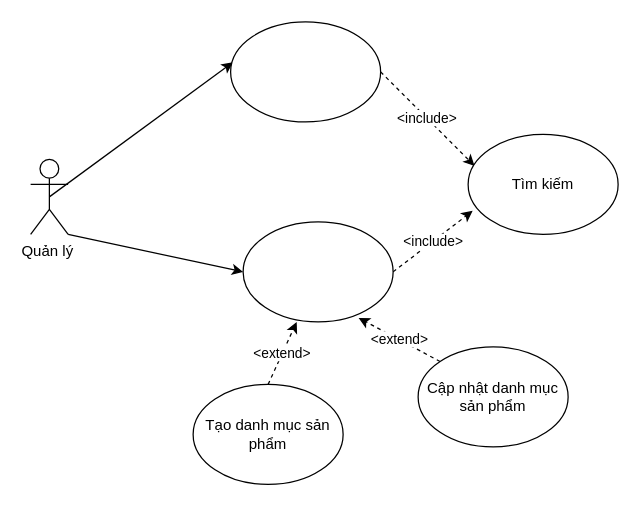
The diagram is 640 pixels wide and 506 high, and some of its shapes have lost their labels. Here are the shapes that lost their labels. From the top down, the centre of each, then its label:
(x=305, y=71): Xem danh sách sản phẩm
(x=317, y=271): Xem danh sách doanh mục sản phẩm
